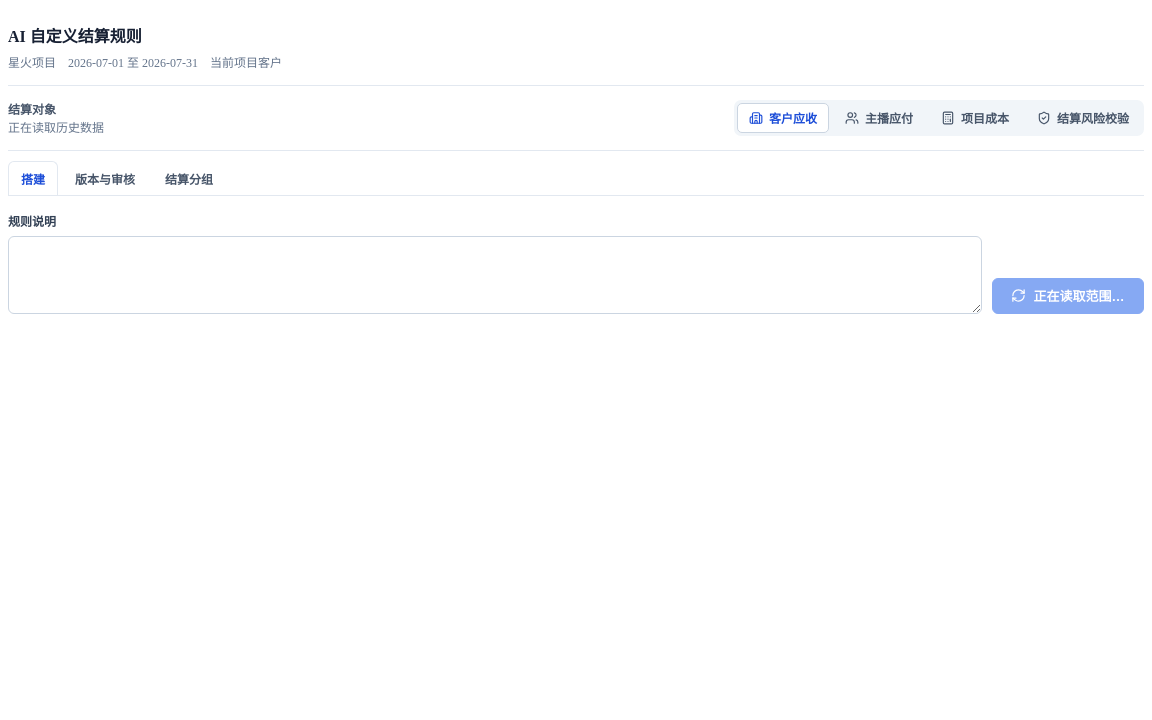
CustomSettlementRuleWorkspace › renders exact authoritative persisted simulation metrics without fabricating missing ones
This screenshot has width=1152, height=720.
Click the button "主播应付". click: (879,118)
box: top-left (833, 103), bottom-right (925, 133)
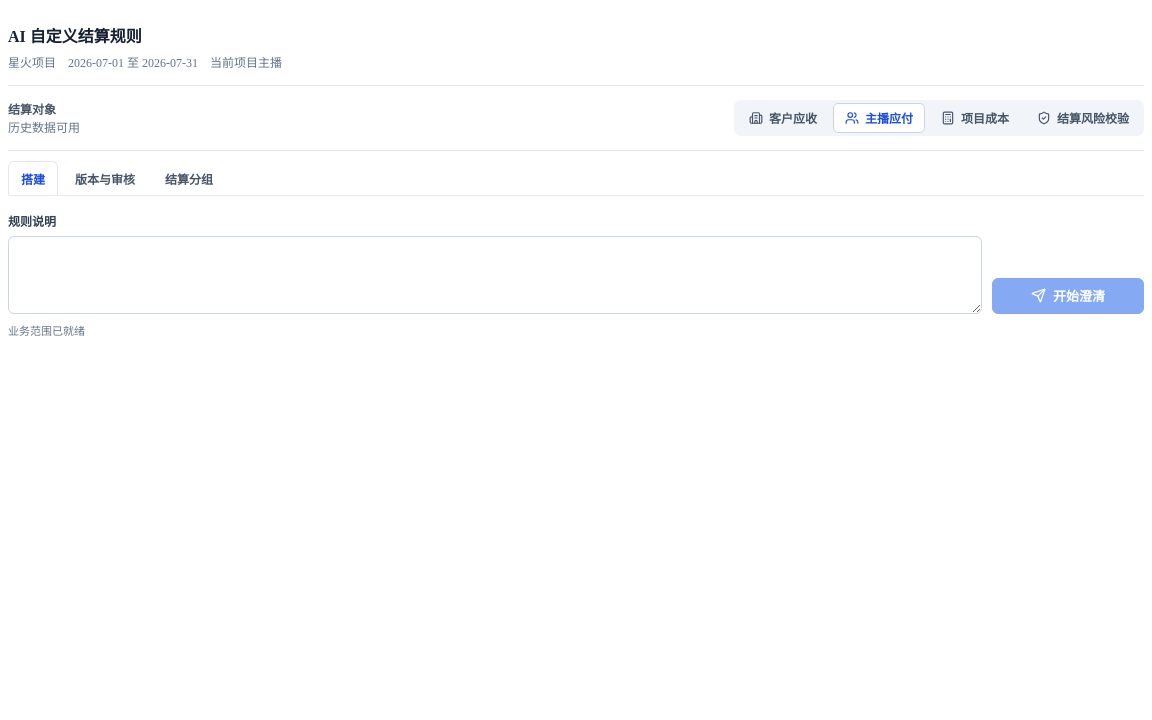
Type "每场按直播时长和单价结算" into the text box labelled "规则说明". click: (495,275)
box: top-left (8, 236), bottom-right (982, 314)
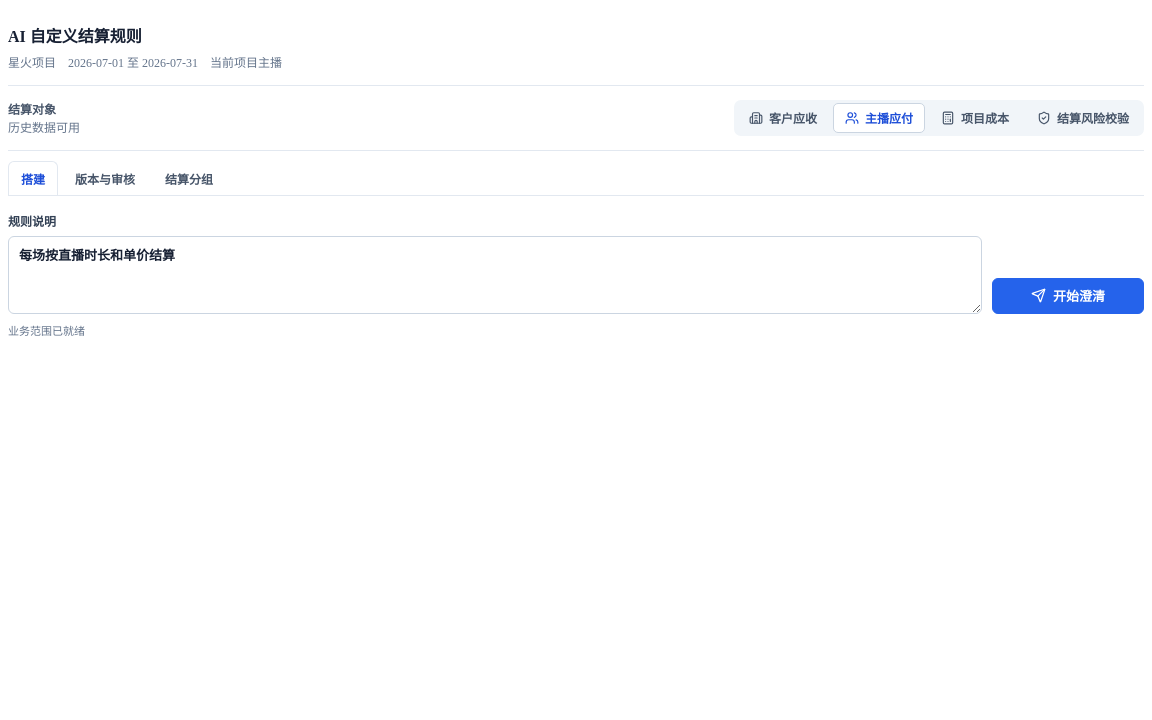
Click the button "开始澄清". click: (1068,296)
box: top-left (992, 278), bottom-right (1144, 314)
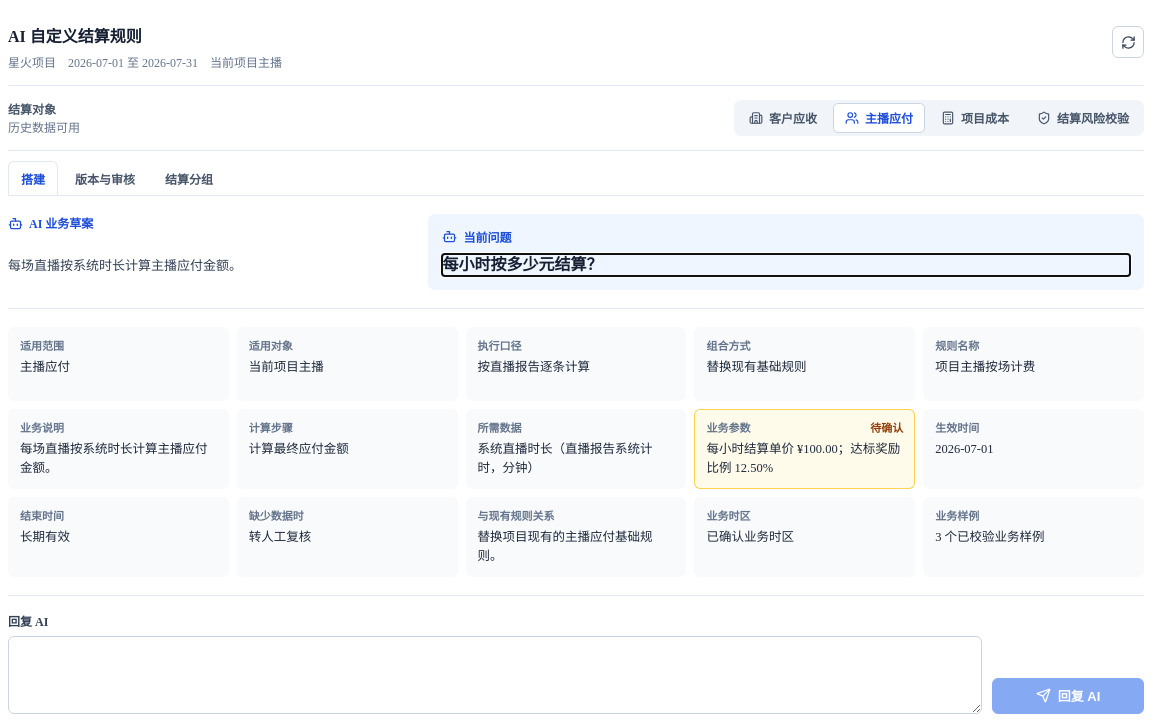
Now the heading "每小时按多少元结算？" is shown, box top-left (442, 256), bottom-right (602, 273)
Click the button named "刷新会话". click: (1128,42)
box: top-left (1112, 26), bottom-right (1144, 58)
(page scrolled)
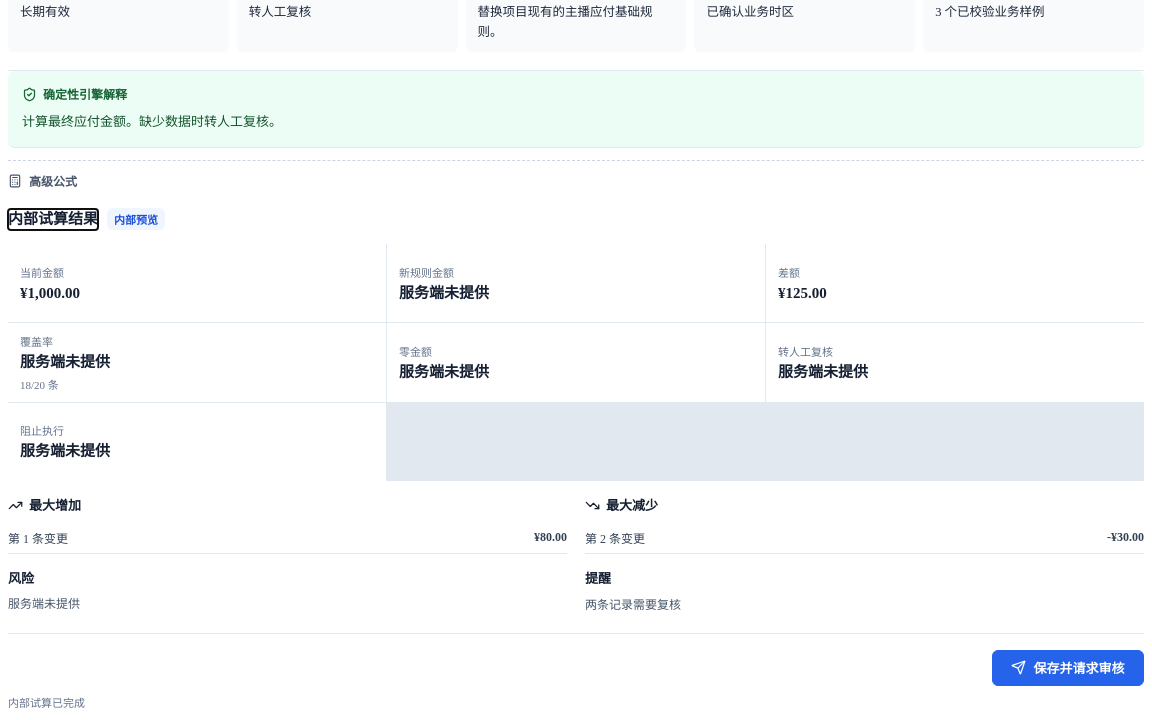
Now the element "内部试算" shows "第 1 条变更", box top-left (8, 532), bottom-right (68, 546)
Now the element "内部试算" shows "¥80.00", box top-left (534, 530), bottom-right (567, 544)
Now the element "内部试算" shows "第 2 条变更", box top-left (585, 532), bottom-right (645, 546)
